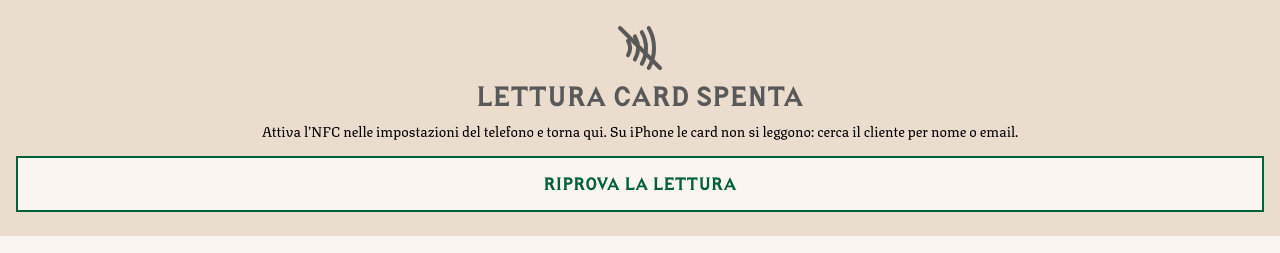
Test: CardReadPanel › off: "Riprova la lettura" calls start() again (NFC turned on from the shade)
This screenshot has width=1280, height=253.
Click the button "Riprova la lettura": (640,184) [16,156,1264,212]
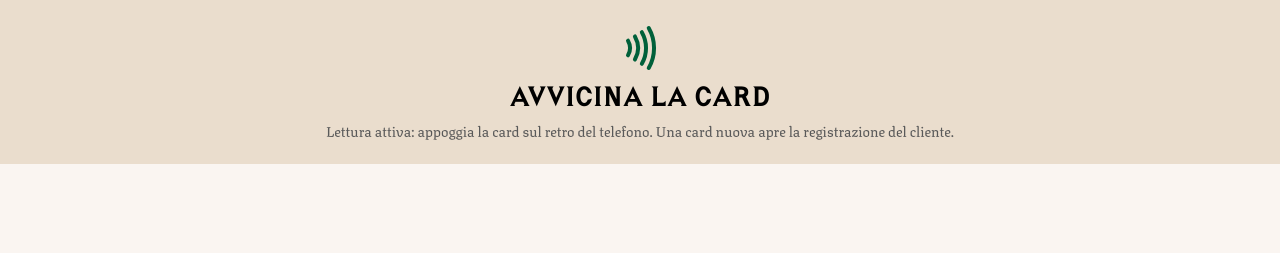
expect the text "Lettura attiva: appoggia la card sul retro del telefono. Una card nuova apre la registrazione del cliente." is shown: met, box [326,119,954,141]
